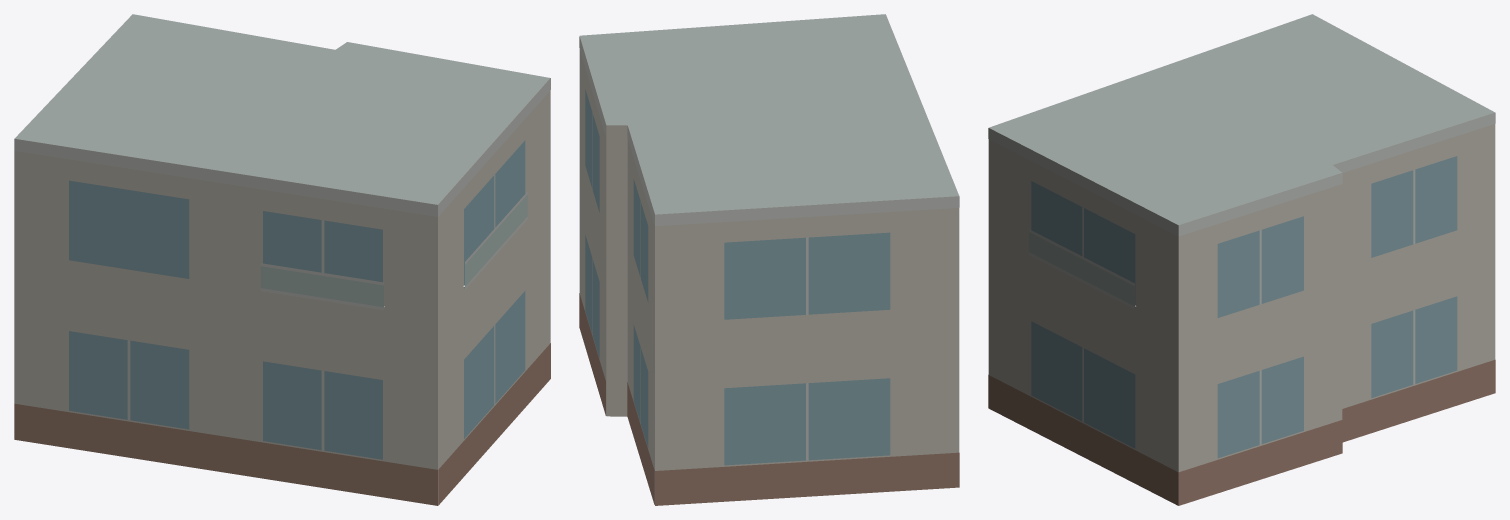
File: survey-upis-32768755.glb
3 views of the same model, side by side, from view 1: azimuth 30°, elevation 25°; view 2: azimuth 150°, elevation 25°; view 3: azimuth 270°, elevation 25° (orthographic). The views are drawn at different scales.
Parts seen in each view (by area): view 1: survey-upis-32768755.tmp; view 2: survey-upis-32768755.tmp; view 3: survey-upis-32768755.tmp.
Part boxes in pixels (<box>): survey-upis-32768755.tmp: <box>14,14,550,505</box>; survey-upis-32768755.tmp: <box>579,14,959,505</box>; survey-upis-32768755.tmp: <box>988,14,1495,505</box>.
Size of the model in its own units: 9.86 by 6.1 by 10.
